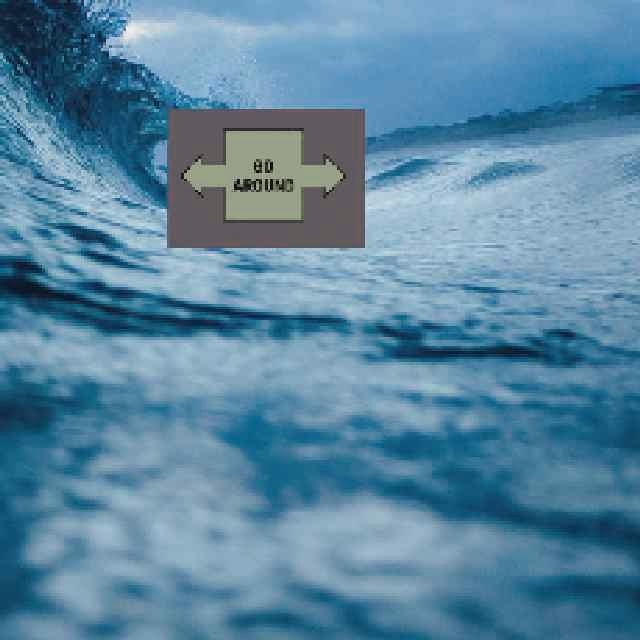GO_AROUND: (178, 128, 345, 219)
